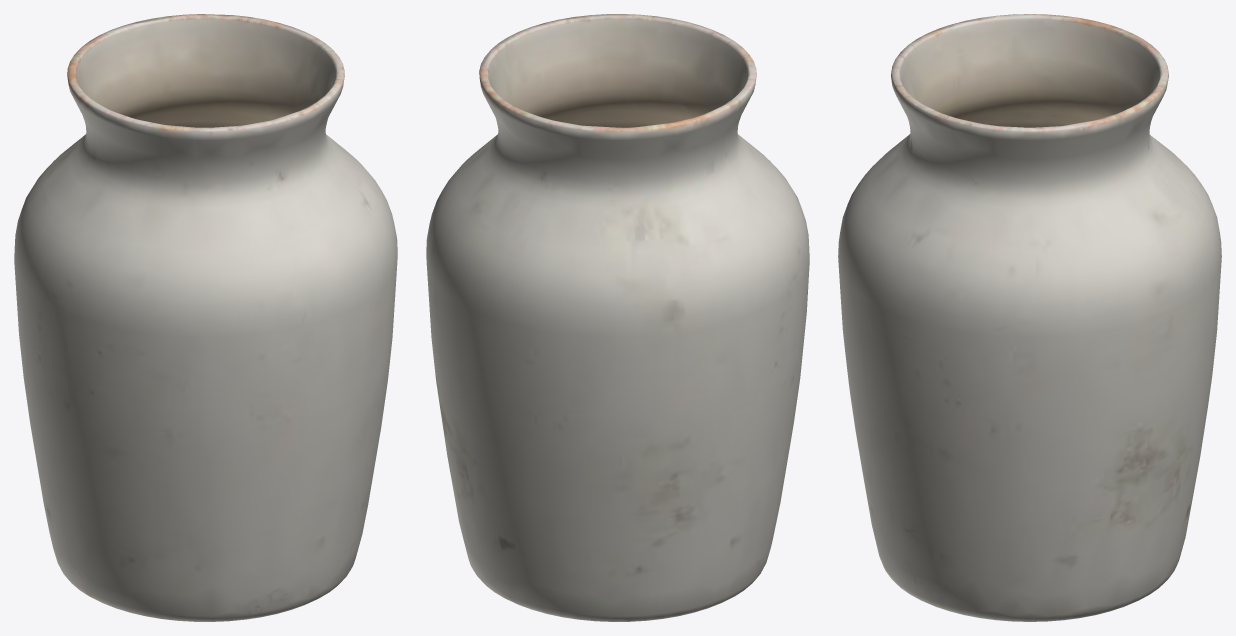
Rendered from vase-m.glb.
The picture shows the model from 3 angles, left to right: view 1: azimuth 30°, elevation 25°; view 2: azimuth 150°, elevation 25°; view 3: azimuth 270°, elevation 25°; orthographic projection.
Visible parts, largest first — view 1: ceramic_vase_02; view 2: ceramic_vase_02; view 3: ceramic_vase_02.
Boxes of the visible parts, box(x1,y1,x2,y2) form: ceramic_vase_02: box(14, 14, 397, 621); ceramic_vase_02: box(426, 14, 809, 621); ceramic_vase_02: box(838, 14, 1221, 621).
Size of the model in its own units: 0.2184 by 0.3092 by 0.2184.
1 material, 1 textured.
